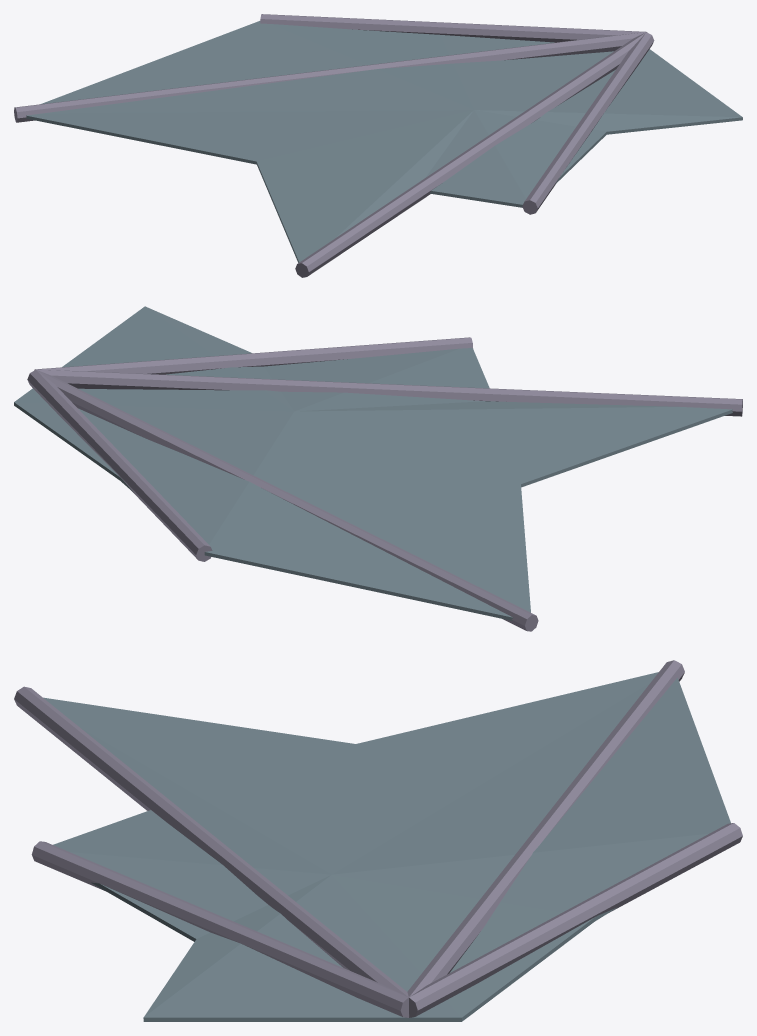
Rendered from wing_l_lod0.glb.
The picture shows the model from 3 angles, top to bottom: view 1: azimuth 30°, elevation 25°; view 2: azimuth 150°, elevation 25°; view 3: azimuth 270°, elevation 25°; orthographic projection. The views are drawn at different scales.
Visible parts, largest first — view 1: devil_wing_l_LOD0; view 2: devil_wing_l_LOD0; view 3: devil_wing_l_LOD0.
Boxes of the visible parts, <box> form: devil_wing_l_LOD0: <box>14,14,742,277</box>; devil_wing_l_LOD0: <box>14,306,742,631</box>; devil_wing_l_LOD0: <box>14,660,742,1021</box>.
Bounding box in the file's own units: 6.48 × 0.35 × 5.49.
